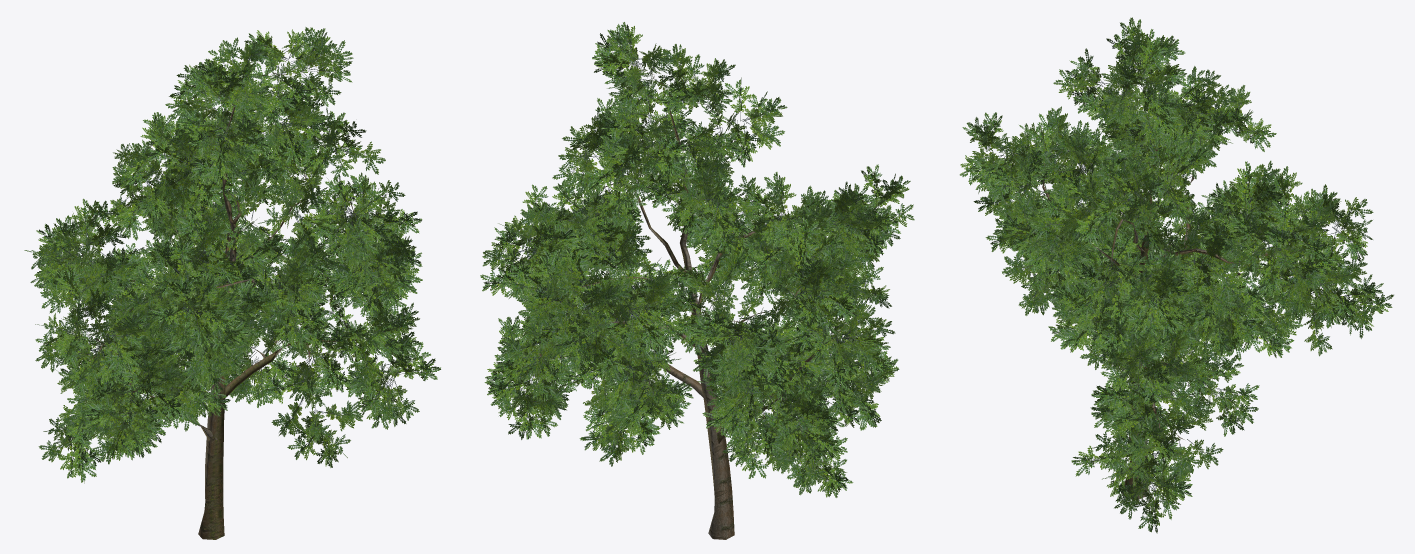
File: tree_04_large.glb
3 views of the same model, side by side, from view 1: azimuth 30°, elevation 25°; view 2: azimuth 150°, elevation 25°; view 3: azimuth 270°, elevation 25° (orthographic).
Parts seen in each view (by area): view 1: tree_04; view 2: tree_04; view 3: tree_04.
Part boxes in pixels (x1,y1,x2,y2): tree_04: [24, 27, 440, 539]; tree_04: [480, 22, 914, 539]; tree_04: [959, 17, 1393, 533].
Bounding box in the file's own units: 18.8 × 21.72 × 17.99.
Materials: 3 (3 with a texture image).
